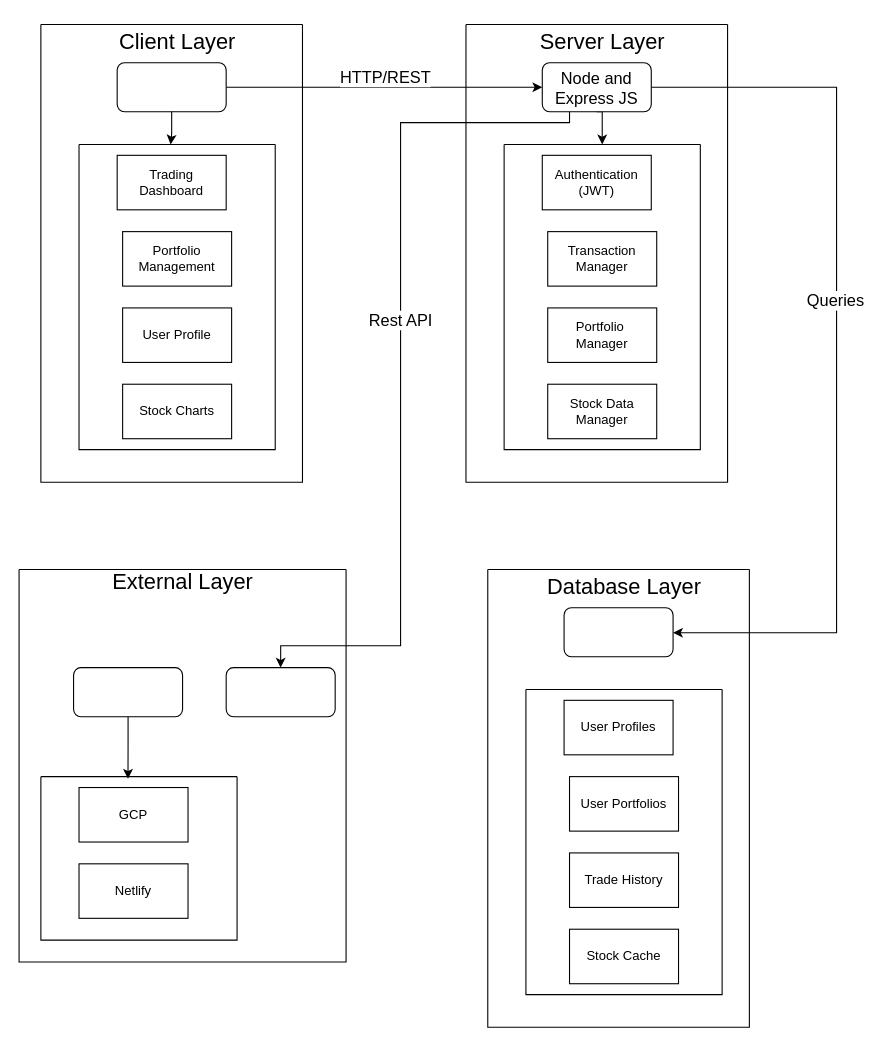
This 883x1046 diagram has some shape labels left out. Each missing label, with the centre of its shape:
"Alpha Vantage API" belongs at [280,692].
"Cloud Deplyment" belongs at [127,692].
"MongoDB Atlas" belongs at [618,632].
"React Frontend" belongs at [171,87].
